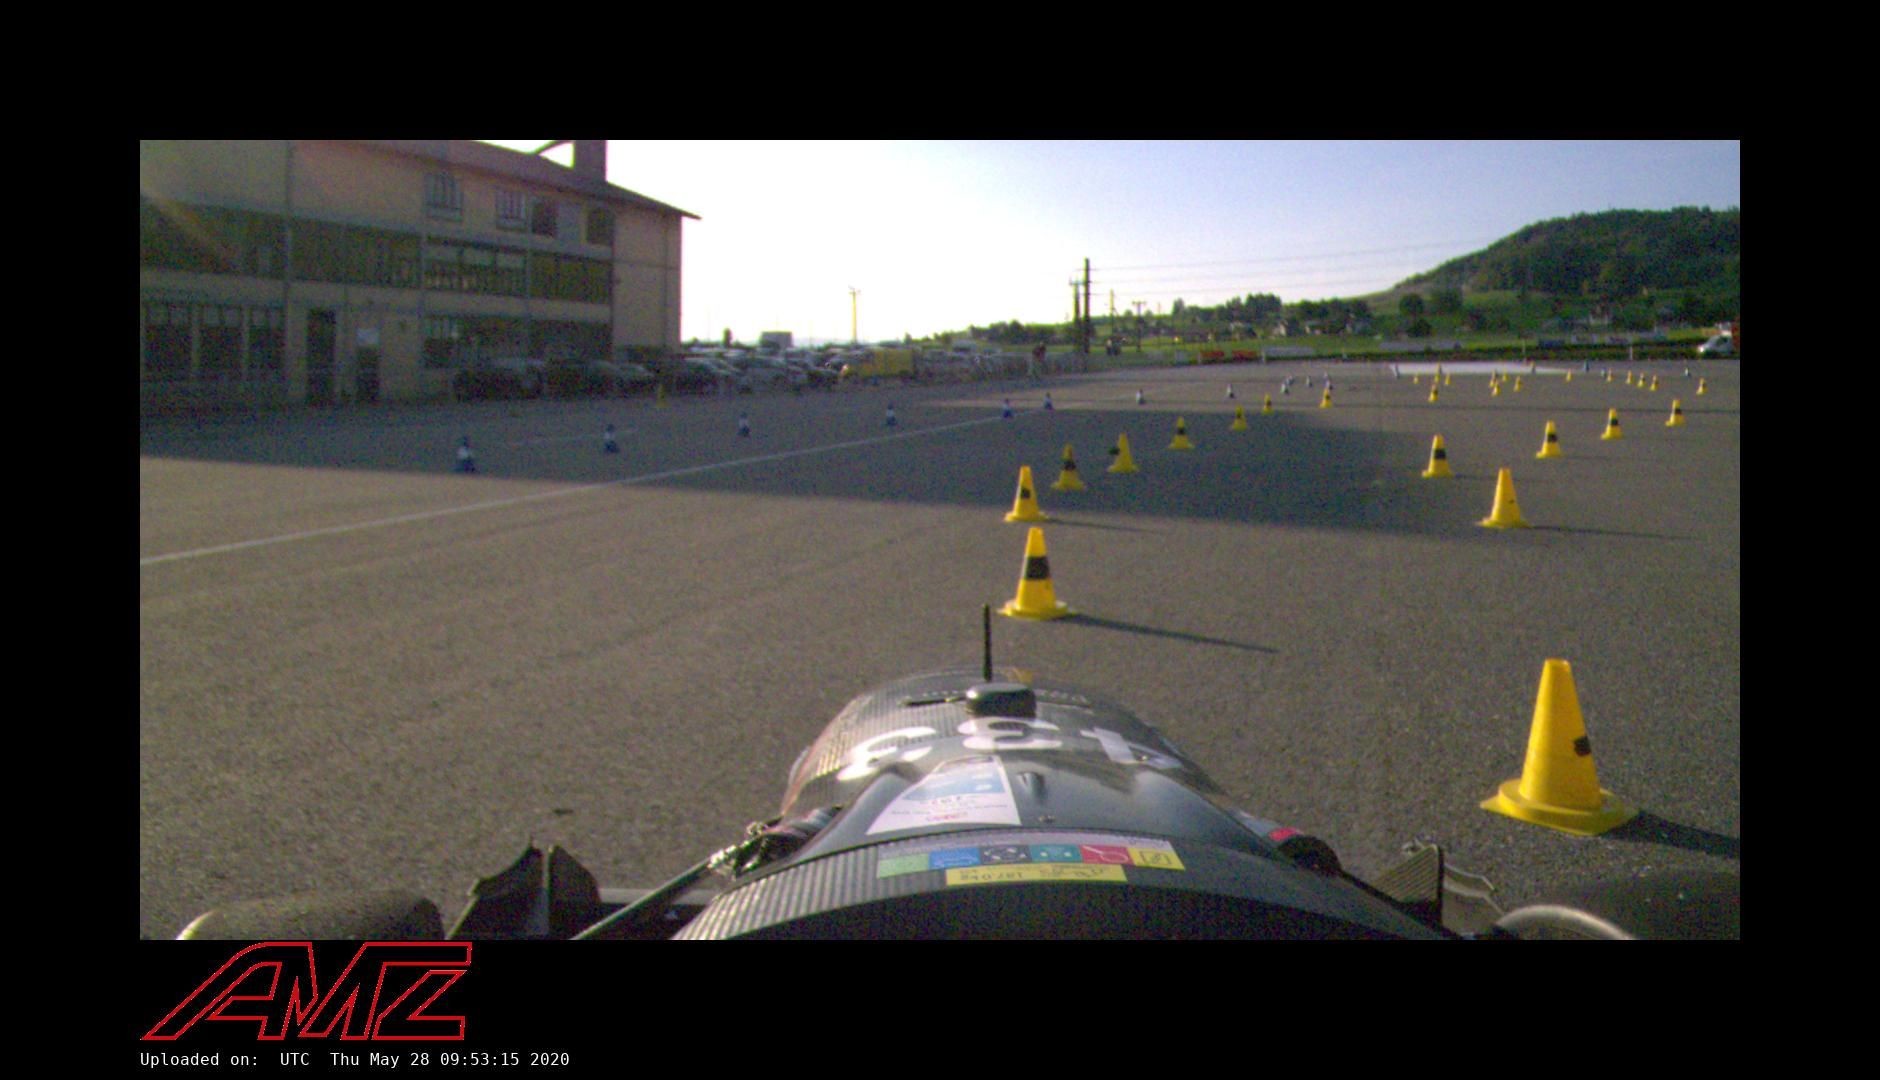blue_cone: (453, 435, 478, 473), (600, 425, 621, 453), (736, 413, 753, 437), (883, 406, 897, 425), (999, 399, 1014, 419), (1045, 393, 1054, 410), (1136, 390, 1147, 404), (1225, 384, 1236, 398)
yellow_cone: (1480, 661, 1642, 836), (996, 527, 1074, 620), (1477, 468, 1533, 530), (1005, 466, 1050, 523), (1051, 444, 1088, 490), (1423, 435, 1456, 477), (1108, 435, 1139, 473), (1537, 422, 1566, 459), (1601, 410, 1626, 441), (1170, 419, 1193, 450), (1666, 400, 1688, 426), (1231, 406, 1250, 430), (1262, 397, 1274, 413), (1321, 390, 1333, 408), (1429, 385, 1438, 402), (1494, 382, 1502, 394)
